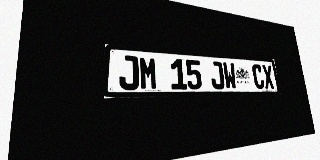1: (170, 58, 187, 90)
5: (186, 59, 202, 89)
C: (251, 64, 265, 89)
J: (119, 55, 139, 90), (209, 61, 225, 89)
M: (139, 56, 158, 90)
W: (222, 62, 237, 89)
X: (262, 65, 275, 89)
